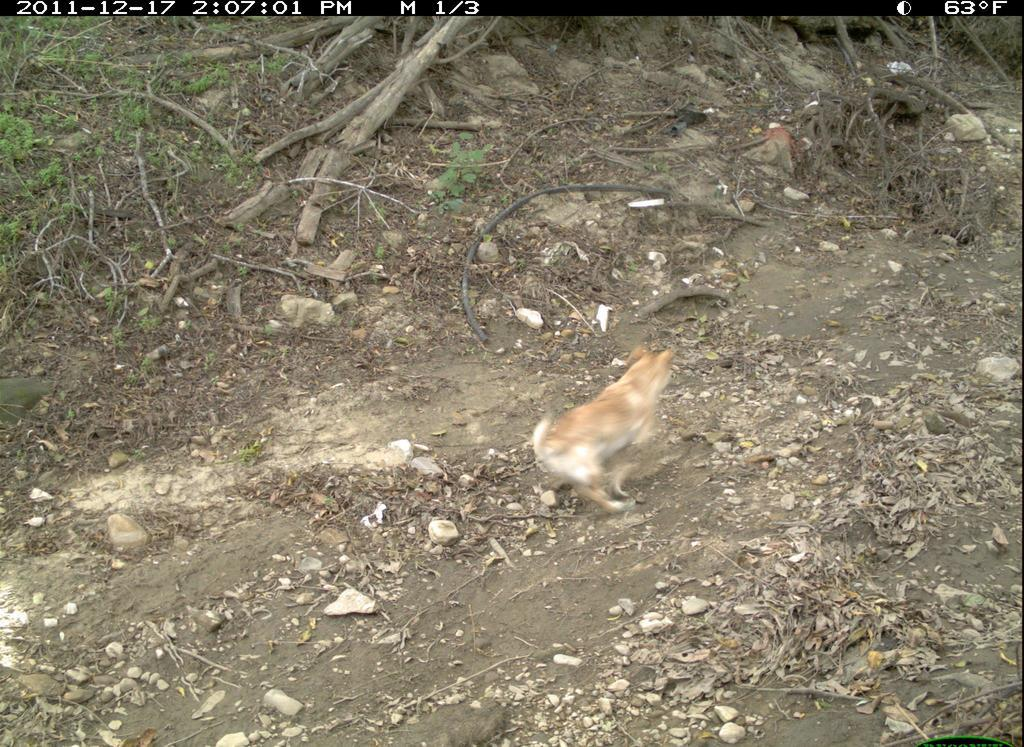dog: (524, 342, 696, 530)
